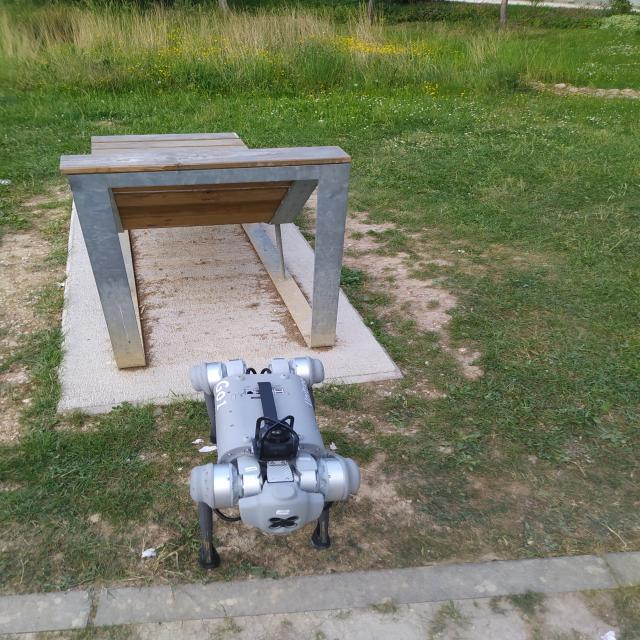unitree-go1-robot: (176, 350, 372, 580)
